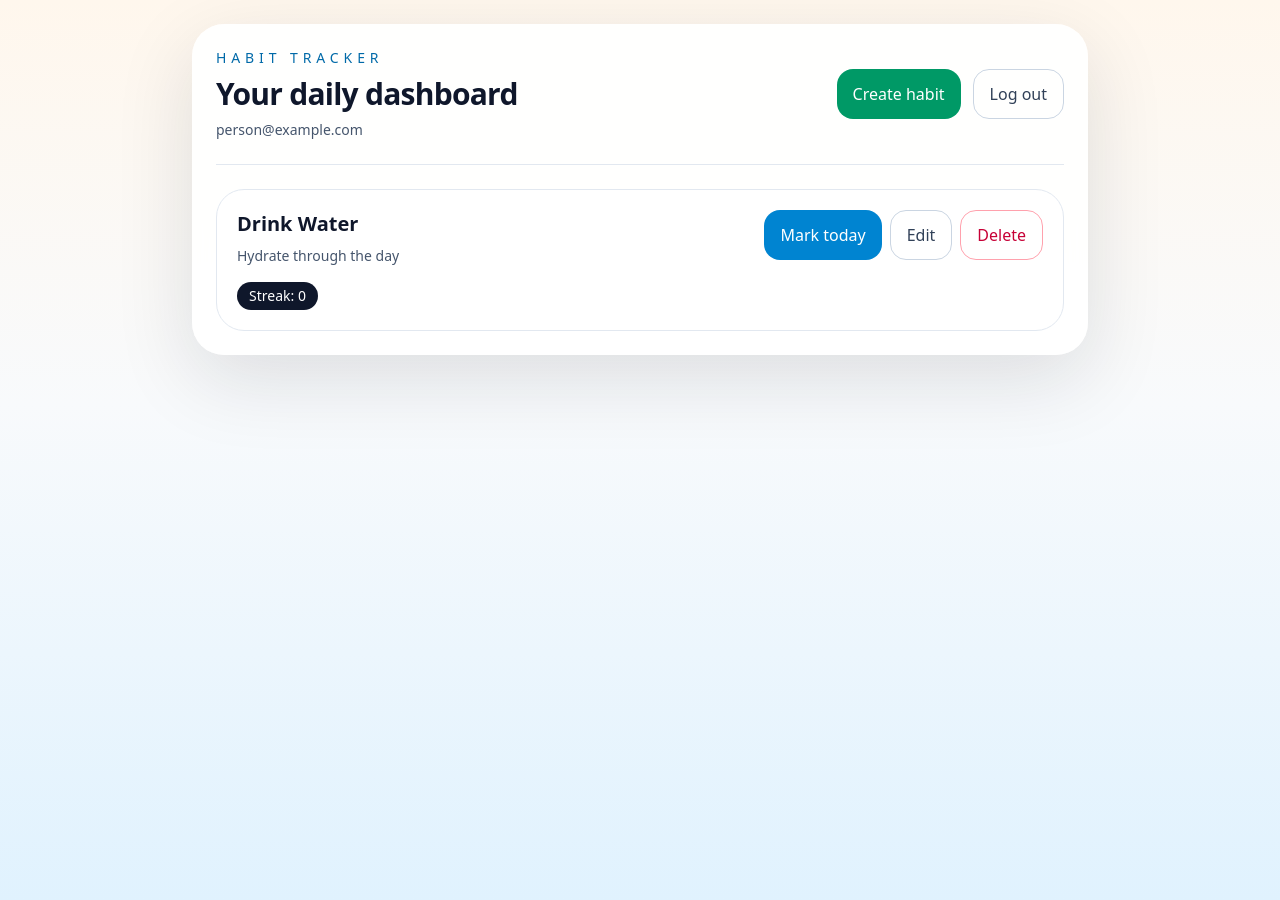
Test case: habit form › toggles completion and updates the streak display
Click the button with test id "habit-complete-drink-water" at x=823, y=235, box [764, 210, 882, 260]
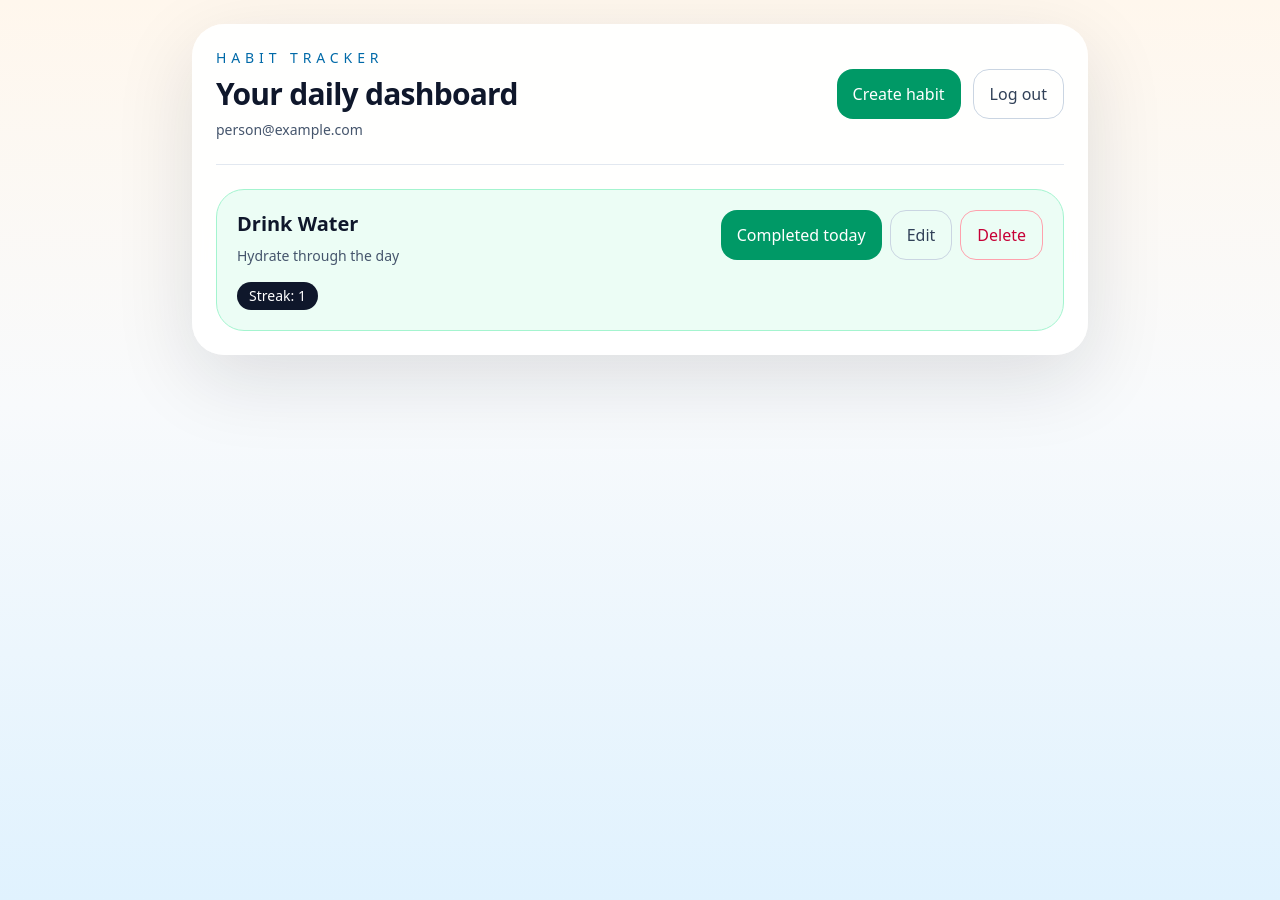
Result: the text with test id "habit-streak-drink-water" reads "Streak: 1" at [237, 282, 318, 310]
